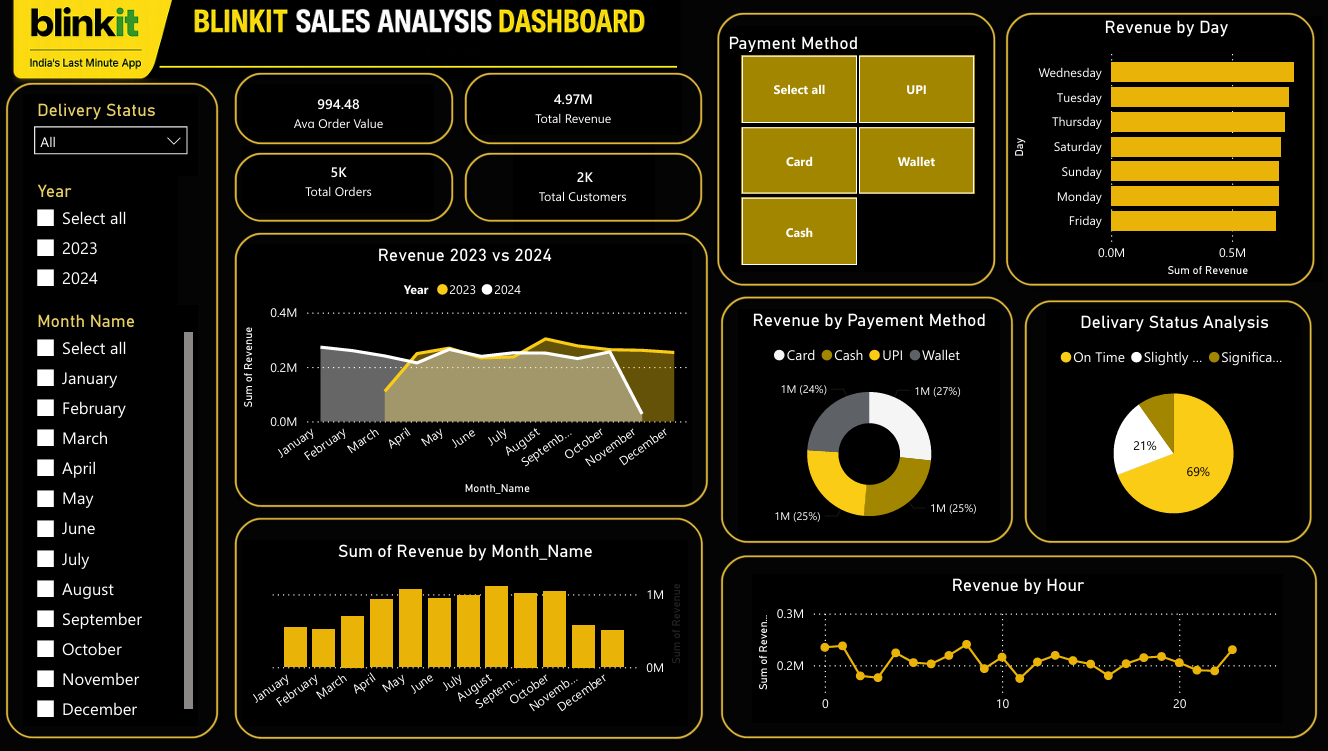

This screenshot's page, from the dashboard's own definition file:
{"tool":"powerbi","page":{"name":"Page 1","canvas":[1280,720],"ordinal":0},"visuals":[{"type":"cardVisual","fields":{"Data":["blinkit_final (1).Total Revenue"]},"box":[443.9,73.3,221.3,64.8],"z":0,"group":"g9"},{"type":"slicer","fields":{"Values":["blinkit_final (1).Month_Name"]},"box":[23.2,297.3,167.5,406],"z":0,"group":"g2"},{"type":"shape","box":[0,76,216.4,644.4],"z":1000,"group":"g2"},{"type":"cardVisual","fields":{"Data":["blinkit_final (1).Total Orders"]},"box":[229.9,138.1,195.7,74.6],"z":1000,"group":"g9"},{"type":"shape","box":[689.7,531.9,587,188.3],"z":1500,"group":"g3"},{"type":"cardVisual","fields":{"Data":["blinkit_final (1).Total Customers"]},"box":[491.1,132,148,96.6],"z":2000,"group":"g9"},{"type":"cardVisual","fields":{"Data":["blinkit_final (1).Avg Order Value"]},"box":[229.9,78.2,195.7,64.8],"z":3000,"group":"g9"},{"type":"clusteredBarChart","title":"Revenue by Day","fields":{"Category":["blinkit_final (1).Day"],"Y":["Sum(blinkit_final (1).Revenue)"]},"box":[973.4,18.4,304.5,255.6],"z":4000,"group":"g6"},{"type":"slicer","fields":{"Values":["blinkit_final (1).payment_method"]},"box":[689.7,28.2,273.9,237.2],"z":4000,"group":"g8"},{"type":"shape","box":[221.3,66,222.6,80.7],"z":4000,"group":"g9"},{"type":"group","id":"g1","title":"Group 1","box":[221.3,495.2,463.5,225],"z":4000},{"type":"clusteredColumnChart","fields":{"Category":["blinkit_final (1).Month_Name"],"Y":["Sum(blinkit_final (1).Revenue)"]},"box":[234.8,523.3,430.4,178.5],"z":4000,"group":"g1"},{"type":"image","box":[0,0,670,103],"z":5000},{"type":"shape","box":[443.9,143,240.9,78.3],"z":5000,"group":"g9"},{"type":"lineChart","title":"Revenue 2023 vs 2024","fields":{"Category":["blinkit_final (1).Month_Name"],"Y":["Sum(blinkit_final (1).Revenue)"],"Series":["blinkit_final (1).Year"]},"box":[229.6,238.4,438.9,247],"z":5000,"group":"g7"},{"type":"shape","box":[443.9,66,240.9,80.7],"z":6000,"group":"g9"},{"type":"group","id":"g2","title":"Group 2","box":[0,76,216.4,644.4],"z":6000},{"type":"donutChart","title":"Revenue by Payement Method","fields":{"Category":["blinkit_final (1).payment_method"],"Y":["Sum(blinkit_final (1).Revenue)"]},"box":[712.9,300.8,251.9,225],"z":6000,"group":"g5"},{"type":"shape","box":[221.3,143,222.6,78.3],"z":7000,"group":"g9"},{"type":"pieChart","title":"Delivary Status Analysis","fields":{"Category":["blinkit_final (1).delivery_status"],"Y":["Sum(blinkit_final (1).order_id)"]},"box":[1010.1,300.5,245.8,223.8],"z":7000,"group":"g4"},{"type":"group","id":"g3","title":"Group 3","box":[689.7,531.9,587,188.3],"z":7000},{"type":"group","id":"g4","title":"Group 4","box":[983.2,286.1,288.6,245.8],"z":8000},{"type":"lineChart","title":"Revenue by Hour","fields":{"Category":["blinkit_final (1).Hour"],"Y":["Sum(blinkit_final (1).Revenue)"]},"box":[726.4,556.4,512.4,143.1],"z":8000,"group":"g3"},{"type":"group","id":"g5","title":"Group 5","box":[689.7,282.5,293.5,249.5],"z":9000},{"type":"group","id":"g6","title":"Group 6","box":[964.8,8.6,313,275.1],"z":10000},{"type":"slicer","fields":{"Values":["blinkit_final (1).delivery_status"]},"box":[23.2,93.1,167.5,79.5],"z":10000,"group":"g2"},{"type":"group","id":"g7","title":"Group 7","box":[221.3,221.3,468.3,276.4],"z":11000},{"type":"group","id":"g8","title":"Group 8","box":[686,8.6,280,275.1],"z":12000},{"type":"shape","box":[686,8.6,280,275.1],"z":12001,"group":"g8"},{"type":"shape","box":[964.8,8.6,309.4,275.1],"z":12001,"group":"g6"},{"type":"shape","box":[221.3,221.3,468.3,276.4],"z":12001,"group":"g7"},{"type":"group","id":"g9","title":"Group 9","box":[221.3,66,463.5,162.6],"z":13004},{"type":"shape","box":[221.3,495.2,463.5,225],"z":15001,"group":"g1"},{"type":"slicer","fields":{"Values":["blinkit_final (1).Year"]},"box":[23.2,171.4,149.2,126],"z":16000,"group":"g2"},{"type":"shape","box":[983.2,286.1,288.6,245.8],"z":16003,"group":"g4"},{"type":"shape","box":[689.7,282.5,293.5,249.5],"z":16005,"group":"g5"}]}

Visuals, with their boxes in screenshot pixels (x1, y1, x2, y2), scaled from the page's 1280x720 canvas onto the 1328x751 screenshot:
cardVisual - blinkit_final (1).Total Revenue: {"x1": 461, "y1": 76, "x2": 690, "y2": 144}
slicer - blinkit_final (1).Month_Name: {"x1": 24, "y1": 310, "x2": 198, "y2": 734}
shape: {"x1": 0, "y1": 79, "x2": 225, "y2": 750}
cardVisual - blinkit_final (1).Total Orders: {"x1": 239, "y1": 144, "x2": 442, "y2": 222}
shape: {"x1": 716, "y1": 555, "x2": 1325, "y2": 750}
cardVisual - blinkit_final (1).Total Customers: {"x1": 510, "y1": 138, "x2": 663, "y2": 238}
cardVisual - blinkit_final (1).Avg Order Value: {"x1": 239, "y1": 82, "x2": 442, "y2": 149}
"Revenue by Day" clusteredBarChart: {"x1": 1010, "y1": 19, "x2": 1326, "y2": 286}
slicer - blinkit_final (1).payment_method: {"x1": 716, "y1": 29, "x2": 1000, "y2": 277}
shape: {"x1": 230, "y1": 69, "x2": 461, "y2": 153}
"Group 1" group: {"x1": 230, "y1": 517, "x2": 710, "y2": 750}
clusteredColumnChart - blinkit_final (1).Month_Name x Sum(blinkit_final (1).Revenue): {"x1": 244, "y1": 546, "x2": 690, "y2": 732}
image: {"x1": 0, "y1": 0, "x2": 695, "y2": 107}
shape: {"x1": 461, "y1": 149, "x2": 710, "y2": 231}
"Revenue 2023 vs 2024" lineChart: {"x1": 238, "y1": 249, "x2": 694, "y2": 506}
shape: {"x1": 461, "y1": 69, "x2": 710, "y2": 153}
"Group 2" group: {"x1": 0, "y1": 79, "x2": 225, "y2": 750}
"Revenue by Payement Method" donutChart: {"x1": 740, "y1": 314, "x2": 1001, "y2": 548}
shape: {"x1": 230, "y1": 149, "x2": 461, "y2": 231}
"Delivary Status Analysis" pieChart: {"x1": 1048, "y1": 313, "x2": 1303, "y2": 547}
"Group 3" group: {"x1": 716, "y1": 555, "x2": 1325, "y2": 750}
"Group 4" group: {"x1": 1020, "y1": 298, "x2": 1319, "y2": 555}
"Revenue by Hour" lineChart: {"x1": 754, "y1": 580, "x2": 1285, "y2": 730}
"Group 5" group: {"x1": 716, "y1": 295, "x2": 1020, "y2": 555}
"Group 6" group: {"x1": 1001, "y1": 9, "x2": 1326, "y2": 296}
slicer - blinkit_final (1).delivery_status: {"x1": 24, "y1": 97, "x2": 198, "y2": 180}
"Group 7" group: {"x1": 230, "y1": 231, "x2": 715, "y2": 519}
"Group 8" group: {"x1": 712, "y1": 9, "x2": 1002, "y2": 296}
shape: {"x1": 712, "y1": 9, "x2": 1002, "y2": 296}
shape: {"x1": 1001, "y1": 9, "x2": 1322, "y2": 296}
shape: {"x1": 230, "y1": 231, "x2": 715, "y2": 519}
"Group 9" group: {"x1": 230, "y1": 69, "x2": 710, "y2": 238}
shape: {"x1": 230, "y1": 517, "x2": 710, "y2": 750}
slicer - blinkit_final (1).Year: {"x1": 24, "y1": 179, "x2": 179, "y2": 310}
shape: {"x1": 1020, "y1": 298, "x2": 1319, "y2": 555}
shape: {"x1": 716, "y1": 295, "x2": 1020, "y2": 555}
